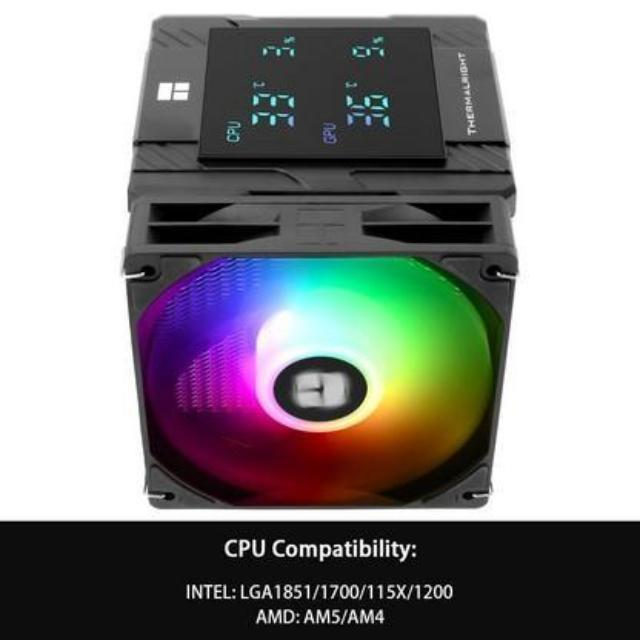CPU_Fan: (118, 12, 518, 516)
